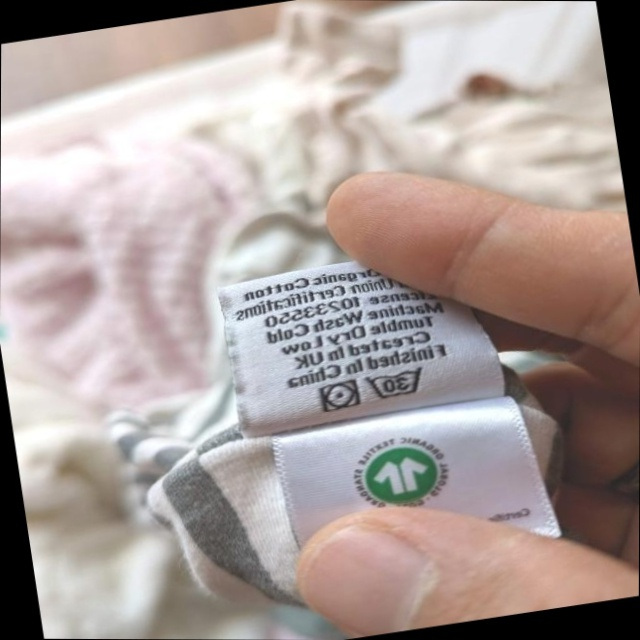30C: (362, 361, 432, 405)
tumble_dry_low: (315, 376, 364, 417)
